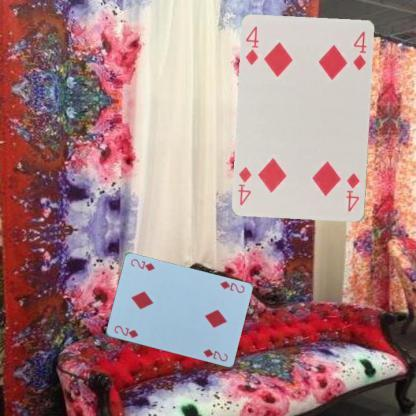2d: (217, 278, 246, 295), (112, 323, 140, 339)
4d: (343, 171, 361, 213), (243, 24, 260, 66)
